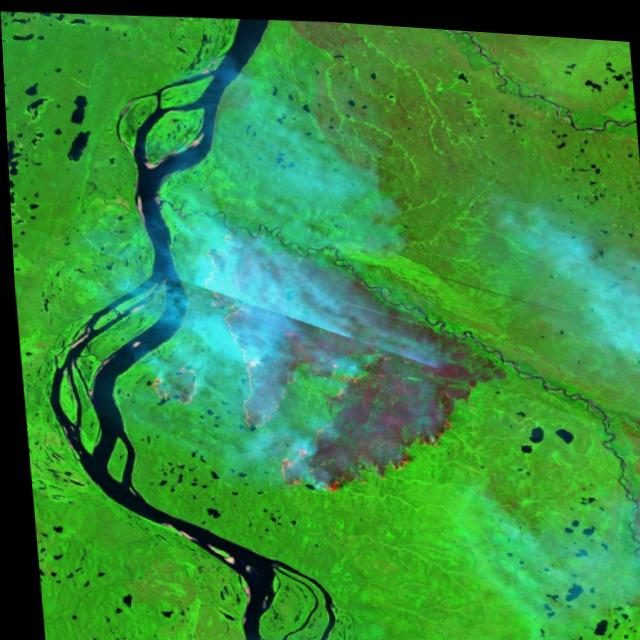fire: (131, 207, 463, 503)
